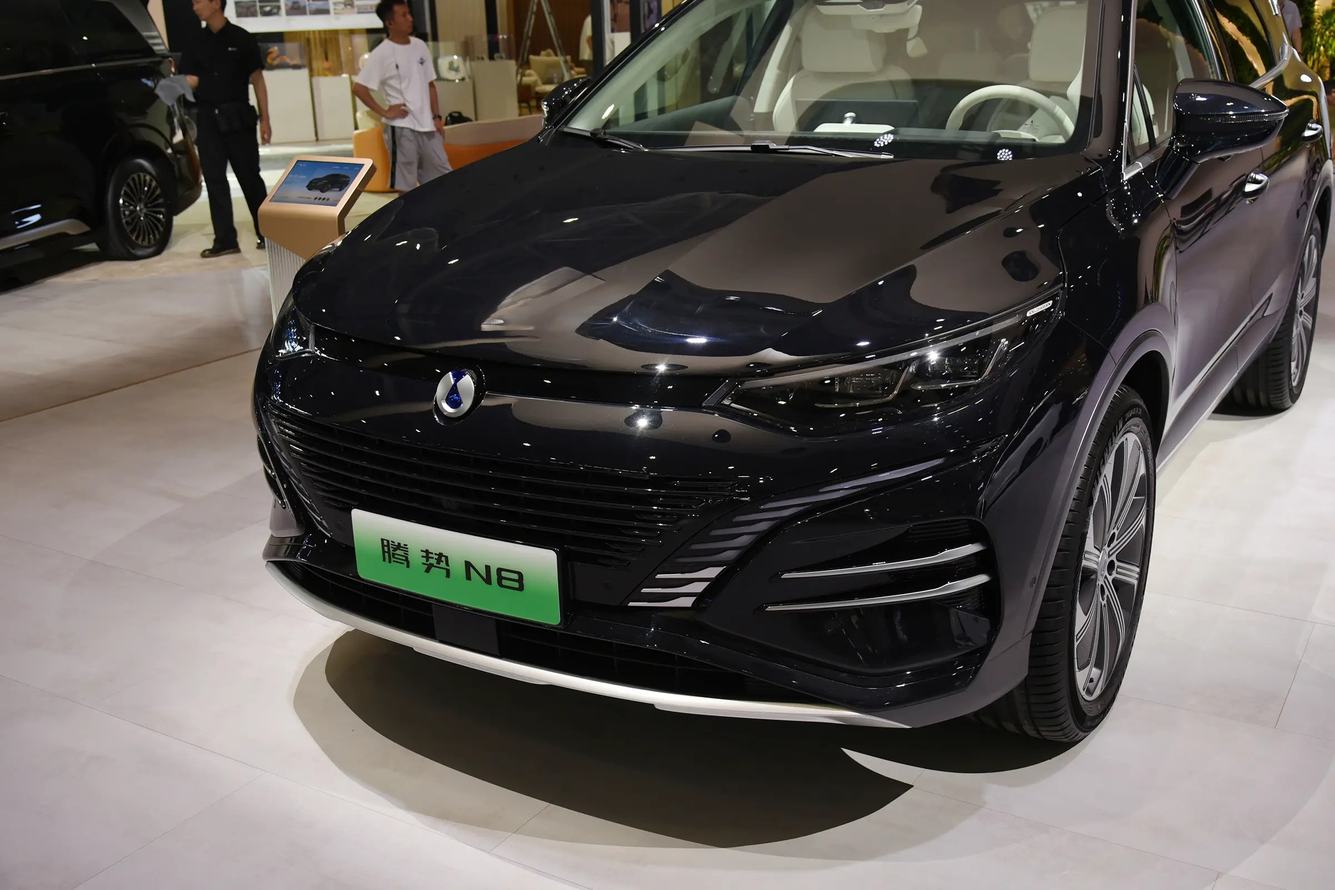DENZA: (437, 370, 474, 417)
